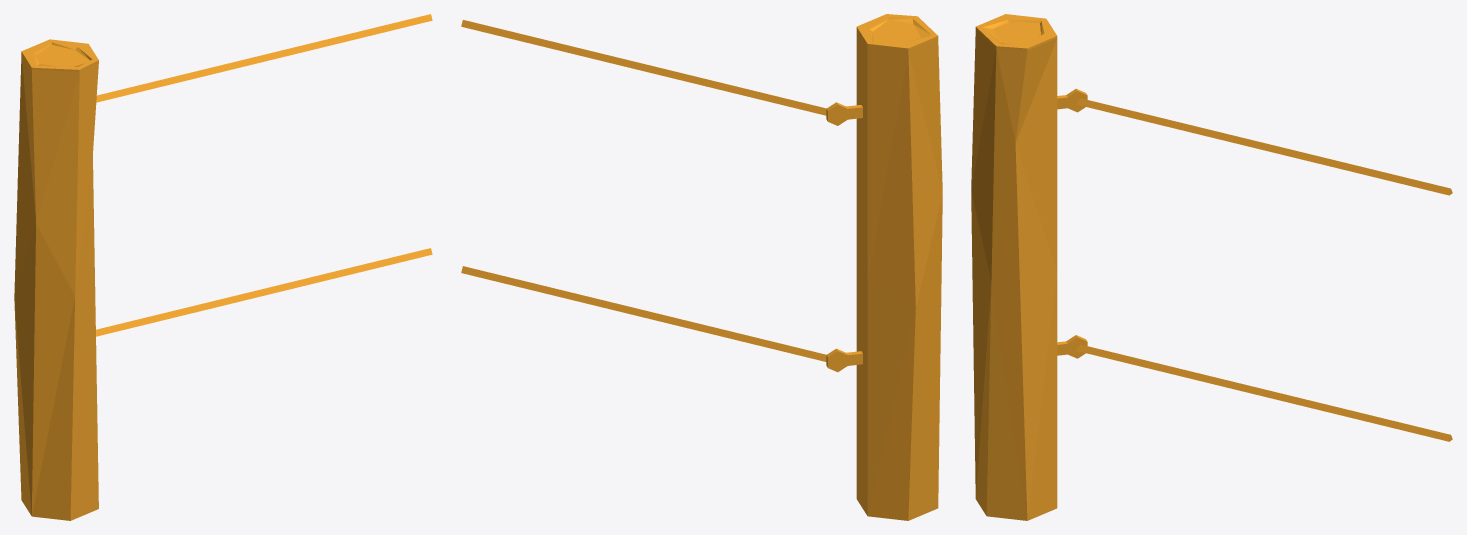
The model's file is SM_Fence_Electric_1m_A.fbx.
The picture shows the model from 3 angles, left to right: view 1: azimuth 30°, elevation 25°; view 2: azimuth 150°, elevation 25°; view 3: azimuth 330°, elevation 25°; orthographic projection. The views are drawn at different scales.
Parts seen in each view (by area): view 1: fence-electric-1m-a; view 2: fence-electric-1m-a; view 3: fence-electric-1m-a.
Part boxes in pixels (x1=…): fence-electric-1m-a: x1=14, y1=14, x2=432, y2=520; fence-electric-1m-a: x1=461, y1=14, x2=942, y2=520; fence-electric-1m-a: x1=971, y1=14, x2=1452, y2=520.
Size of the model in its own units: 1.2 by 1.21 by 0.2179.
